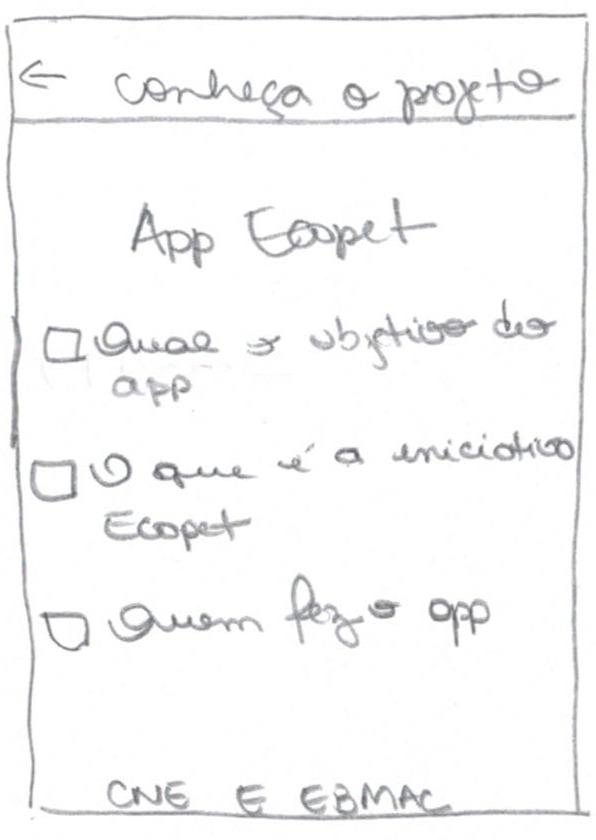Button: (16, 58, 68, 91)
CheckBox: (29, 431, 576, 548), (41, 311, 559, 409), (41, 574, 492, 653)
Label: (113, 68, 562, 120), (125, 201, 439, 269), (106, 779, 452, 811)
Screen: (4, 13, 586, 823)
